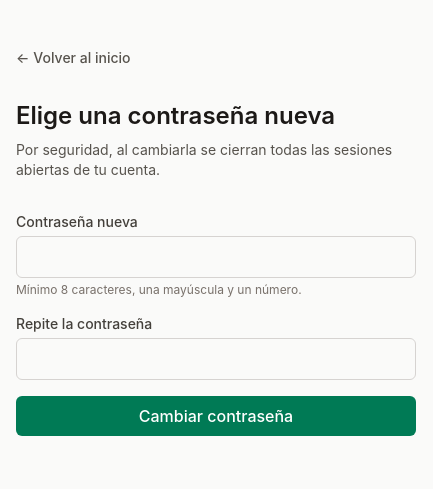
Test: recuperación de contraseña › valida la contraseña y las dos coincidencias antes de llamar al API
Type "debil" into the password field labelled "Contraseña nueva" at coordinates (216, 257), box [16, 236, 416, 278]
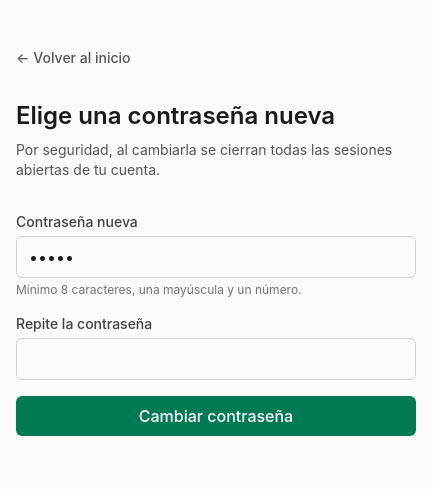
Type "debil" into the password field labelled "Repite la contraseña" at coordinates (216, 359), box [16, 338, 416, 380]
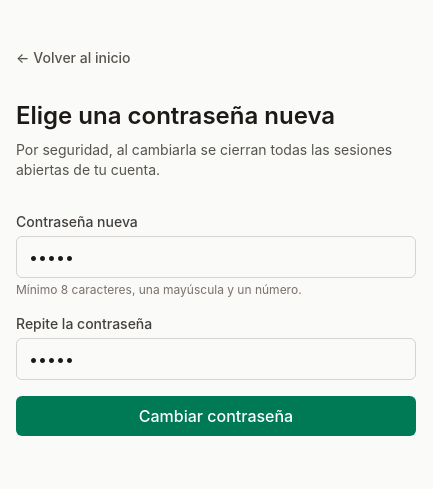
Submit the form named "Cambiar contraseña", box [16, 212, 416, 436]
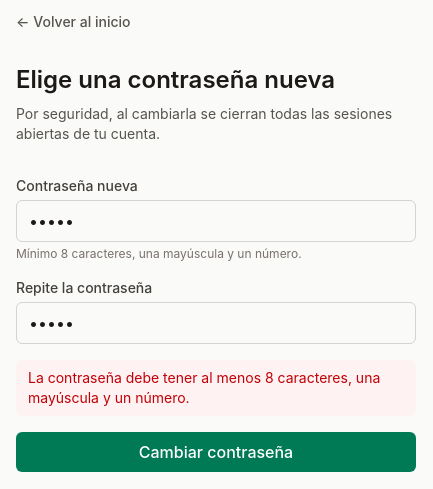
Result: the message shows "al menos 8 caracteres" at [28, 369, 380, 406]
Type "NuevaClave1" into the password field labelled "Contraseña nueva" at coordinates (216, 221), box [16, 200, 416, 242]
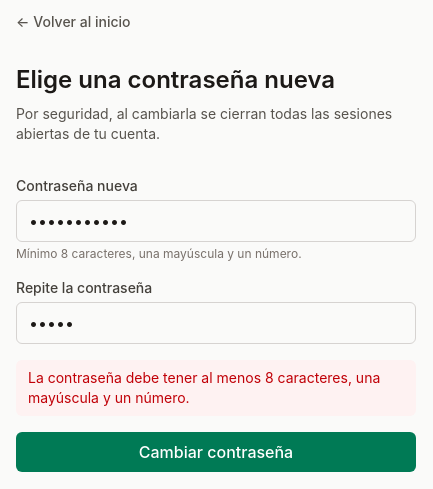
Type "OtraClave1" into the password field labelled "Repite la contraseña" at coordinates (216, 323), box [16, 302, 416, 344]
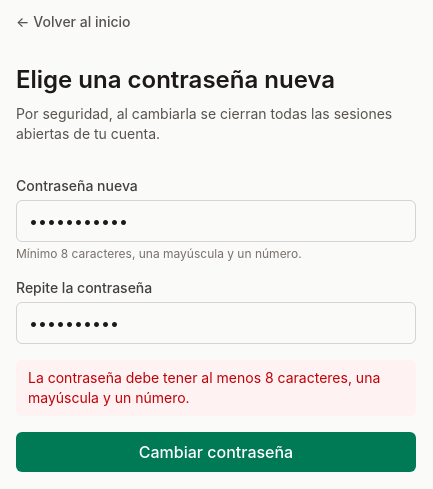
Submit the form named "Cambiar contraseña", box [16, 176, 416, 472]
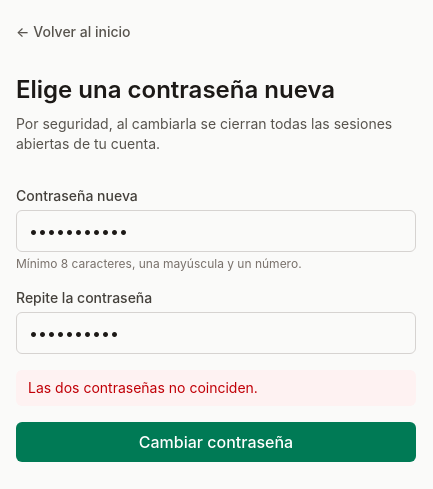
Result: the message shows "no coinciden" at [28, 379, 258, 396]
